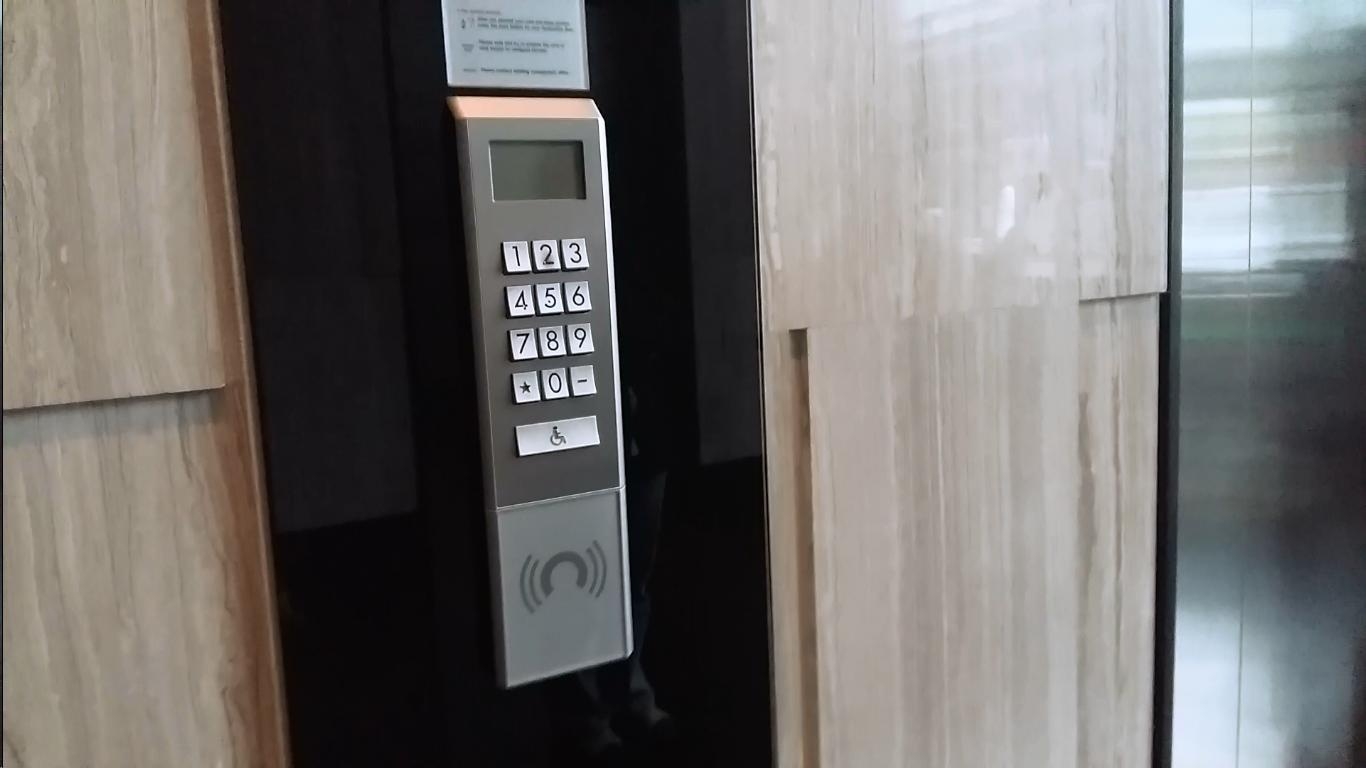-: (569, 364, 598, 398)
0: (540, 366, 571, 401)
1: (498, 239, 533, 274)
2: (532, 238, 561, 273)
3: (560, 237, 590, 272)
4: (504, 281, 536, 318)
5: (534, 281, 563, 317)
6: (562, 280, 592, 315)
7: (507, 325, 540, 362)
8: (535, 323, 567, 359)
9: (564, 321, 595, 355)
CH: (512, 414, 601, 458)
led: (486, 137, 588, 202)
s: (510, 370, 542, 405)
